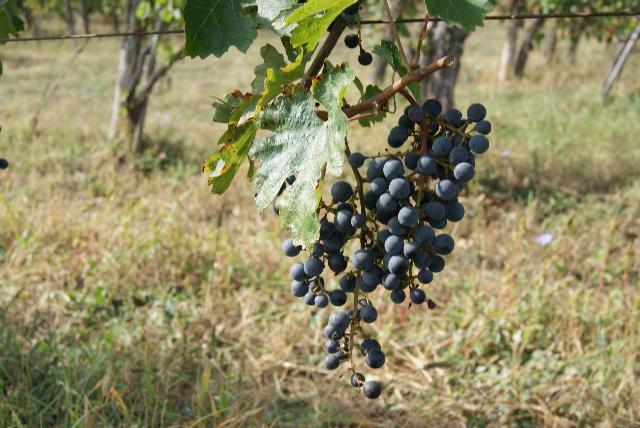grapes: (368, 100, 491, 304), (290, 181, 385, 399)
